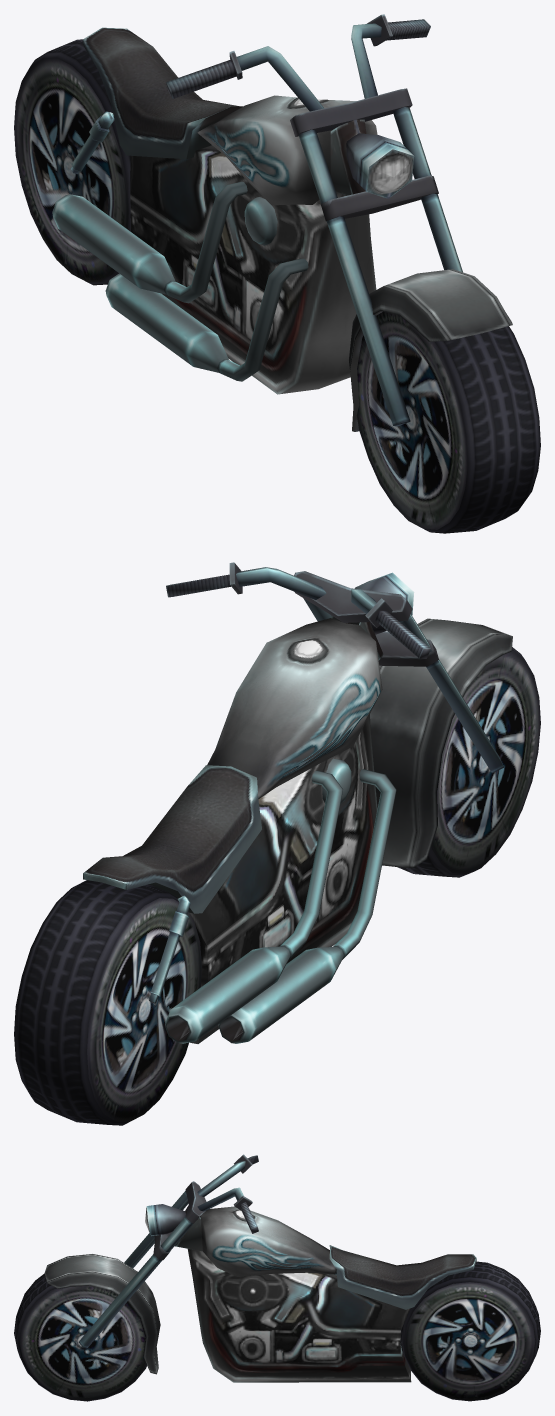
File: MaLuBian_01_motuoche_01.FBX
3 views of the same model, one above another, from view 1: azimuth 30°, elevation 25°; view 2: azimuth 150°, elevation 25°; view 3: azimuth 270°, elevation 25° (orthographic). The views are drawn at different scales.
Parts seen in each view (by area): view 1: MaLuBian_01_motuoche_01; view 2: MaLuBian_01_motuoche_01; view 3: MaLuBian_01_motuoche_01.
Boxes of the visible parts, bbox=[...] form: MaLuBian_01_motuoche_01: bbox=[14, 14, 540, 533]; MaLuBian_01_motuoche_01: bbox=[14, 562, 540, 1125]; MaLuBian_01_motuoche_01: bbox=[14, 1154, 540, 1401].
Bounding box in the file's own units: 6.29 × 8.92 × 19.33.
1 material, 1 textured.
